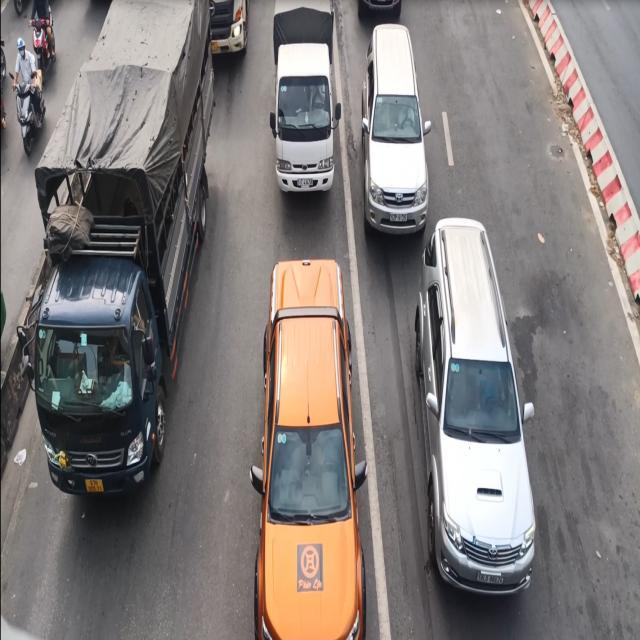car: (413, 216, 536, 596), (249, 258, 368, 639), (360, 22, 432, 236)
truck: (20, 0, 216, 498), (270, 0, 340, 193)
